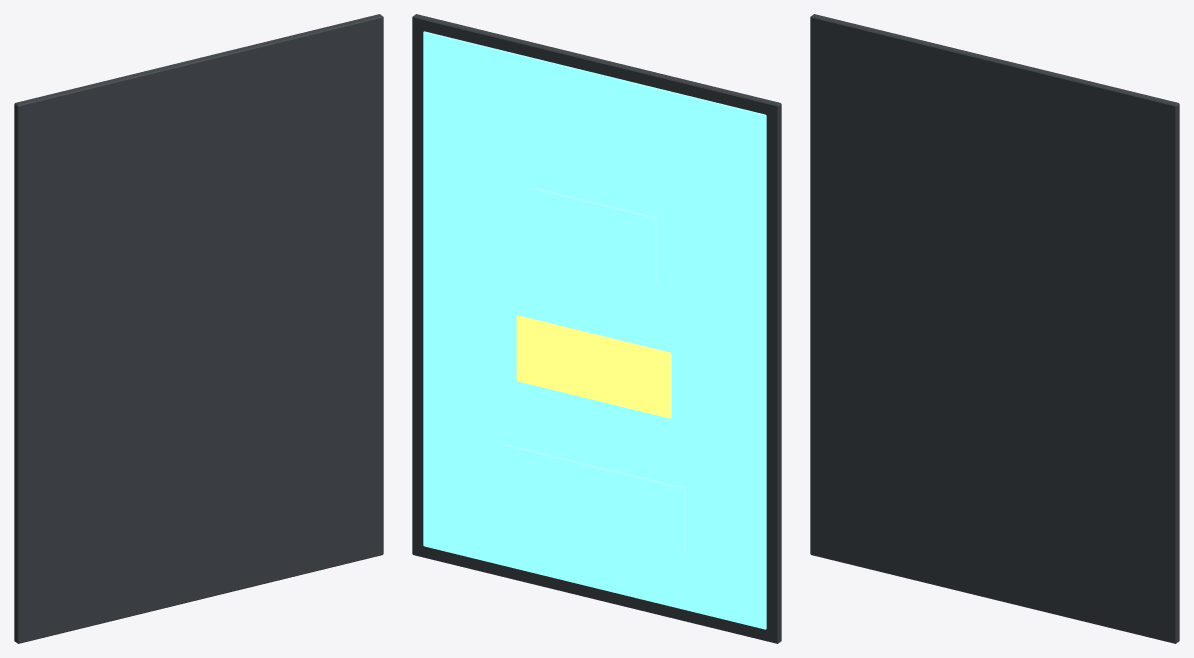
The model's file is boost_pad.glb.
3 views of the same model, side by side, from view 1: azimuth 30°, elevation 25°; view 2: azimuth 150°, elevation 25°; view 3: azimuth 330°, elevation 25° (orthographic).
Visible parts, largest first — view 1: FlightKit_BoostPad; view 2: FlightKit_BoostPad; view 3: FlightKit_BoostPad.
Boxes of the visible parts, x1=… form: FlightKit_BoostPad: x1=14, y1=14, x2=383, y2=643; FlightKit_BoostPad: x1=412, y1=14, x2=781, y2=643; FlightKit_BoostPad: x1=810, y1=14, x2=1179, y2=643.
Bounding box in the file's own units: 3.2 × 4.5 × 0.085.
